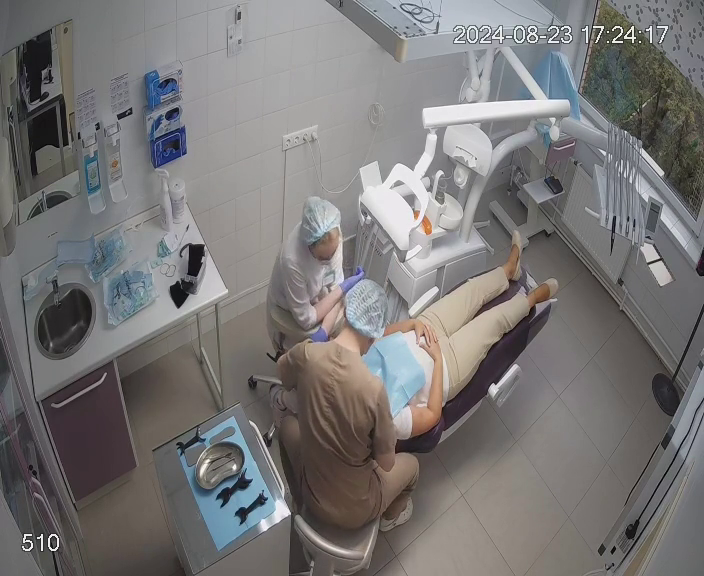Patient: (306, 230, 559, 453)
